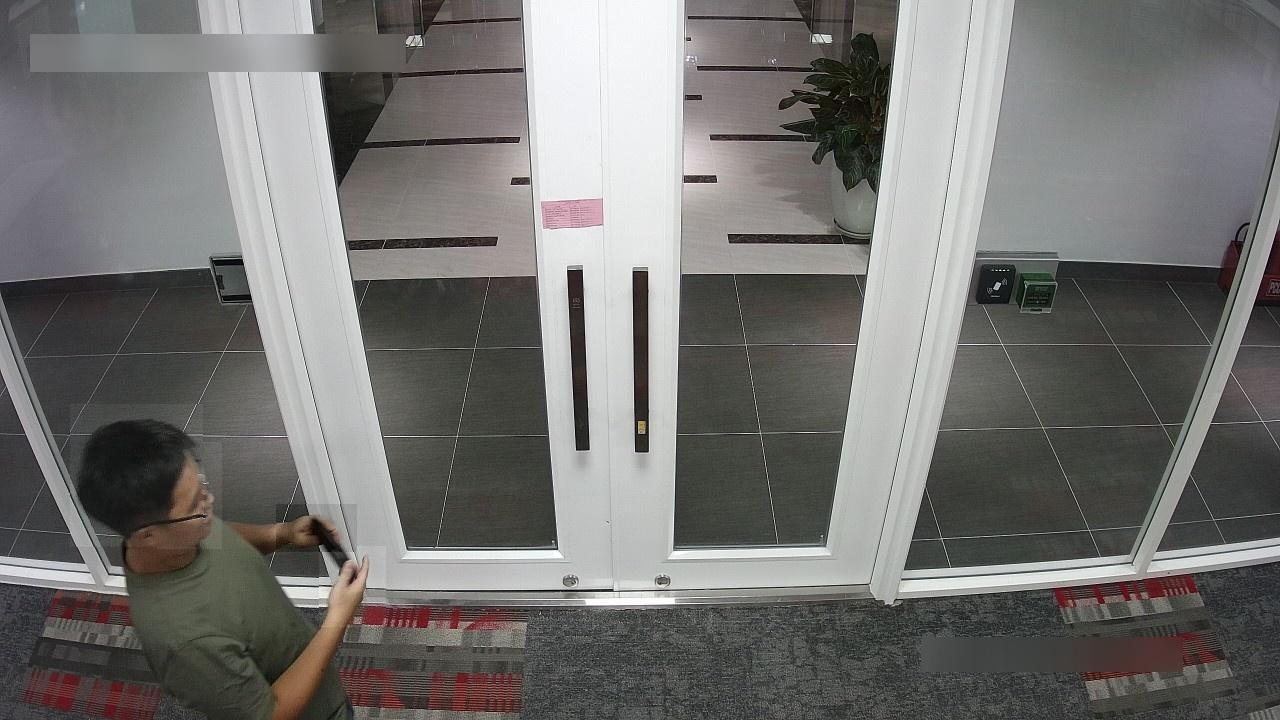no_apron: (319, 547, 386, 628), (277, 505, 358, 553)
no_gloves: (70, 404, 204, 548)
no_hairnet: (157, 442, 222, 549)
